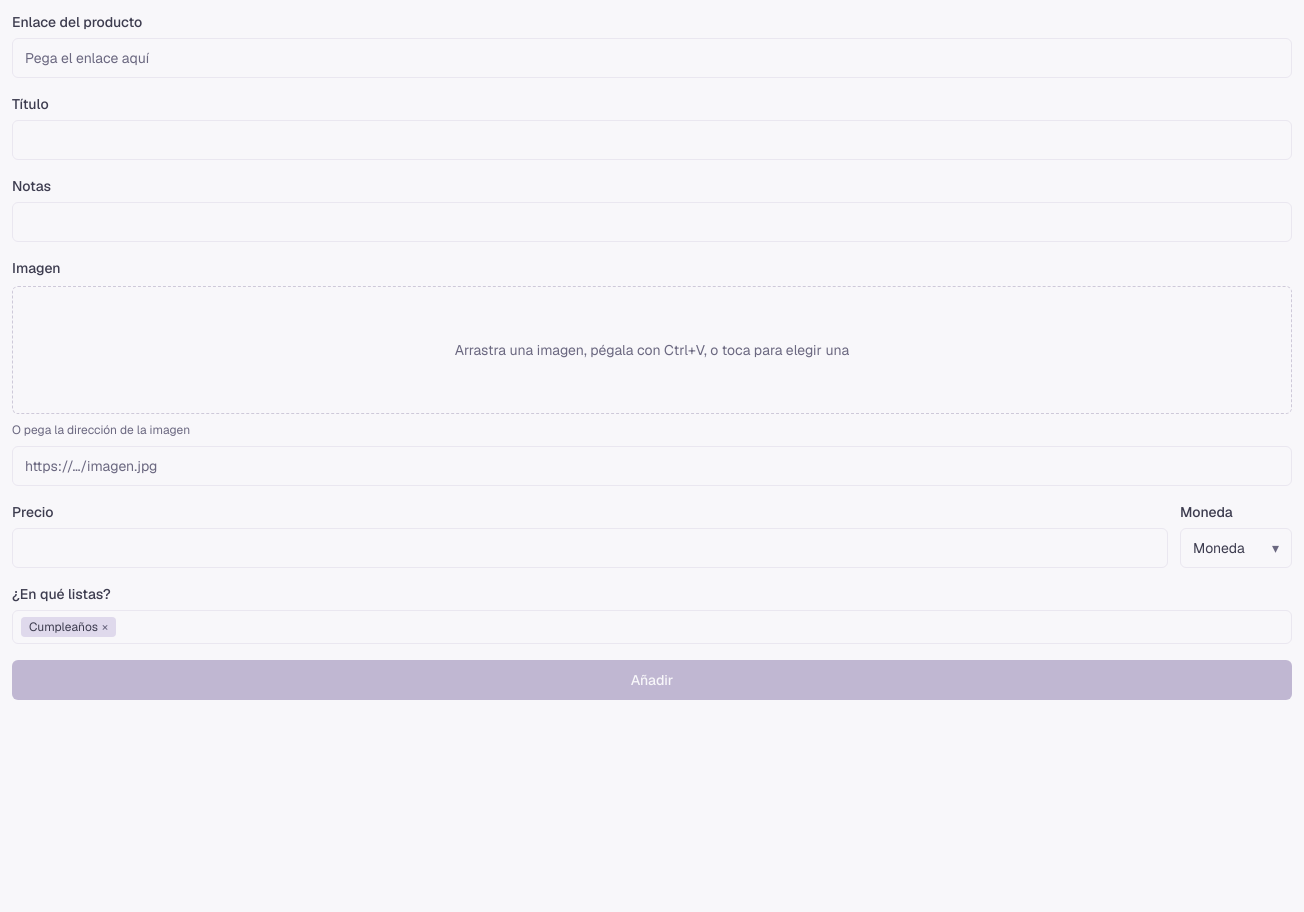
Scenario: AddItemForm › validation messages in Spanish (T092) › shows the URL error in Spanish once the field has been blurred
In the field labelled "Enlace del producto": point(652, 58) [12, 38, 1292, 78], type "not-a-url"
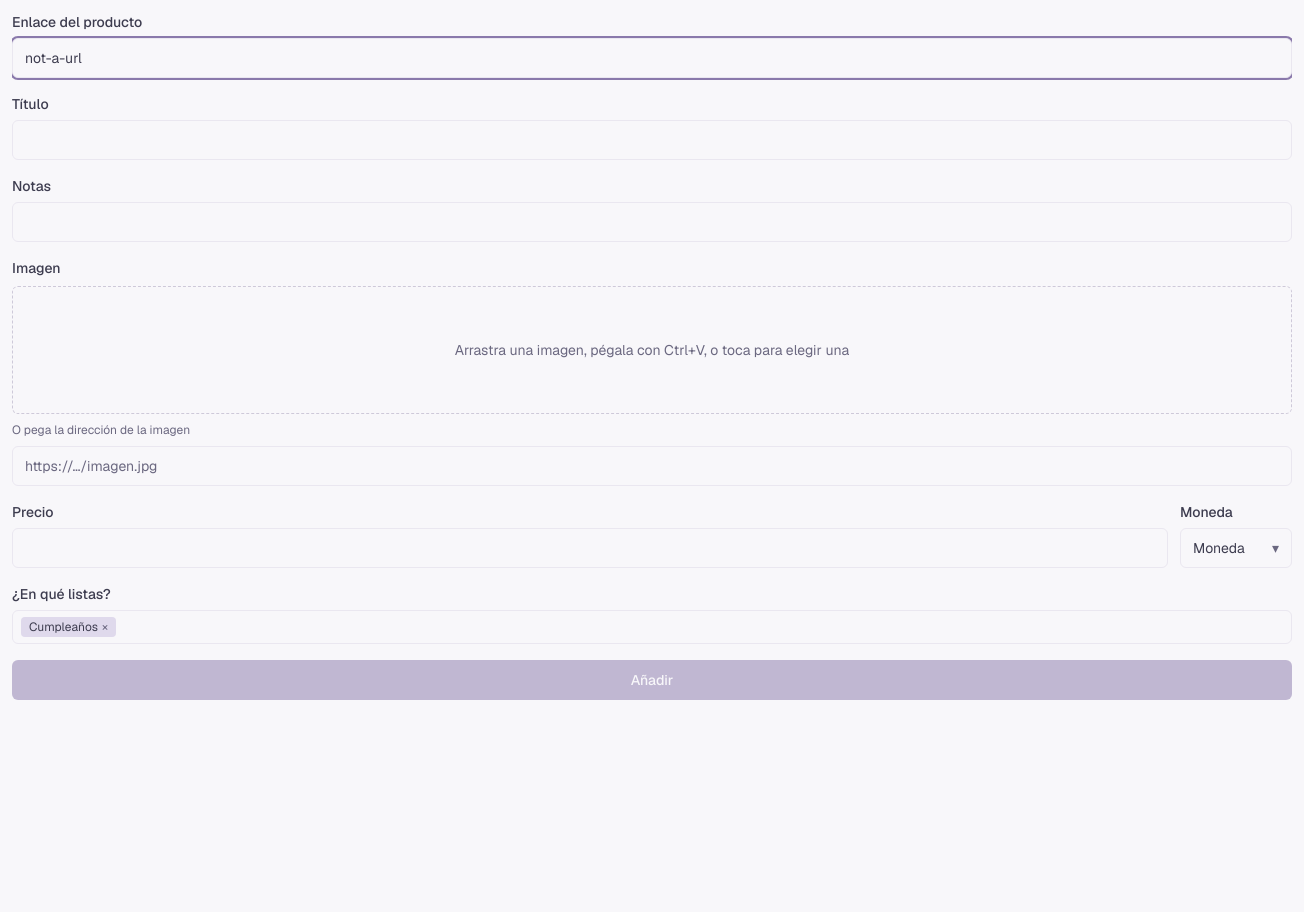
Press Tab
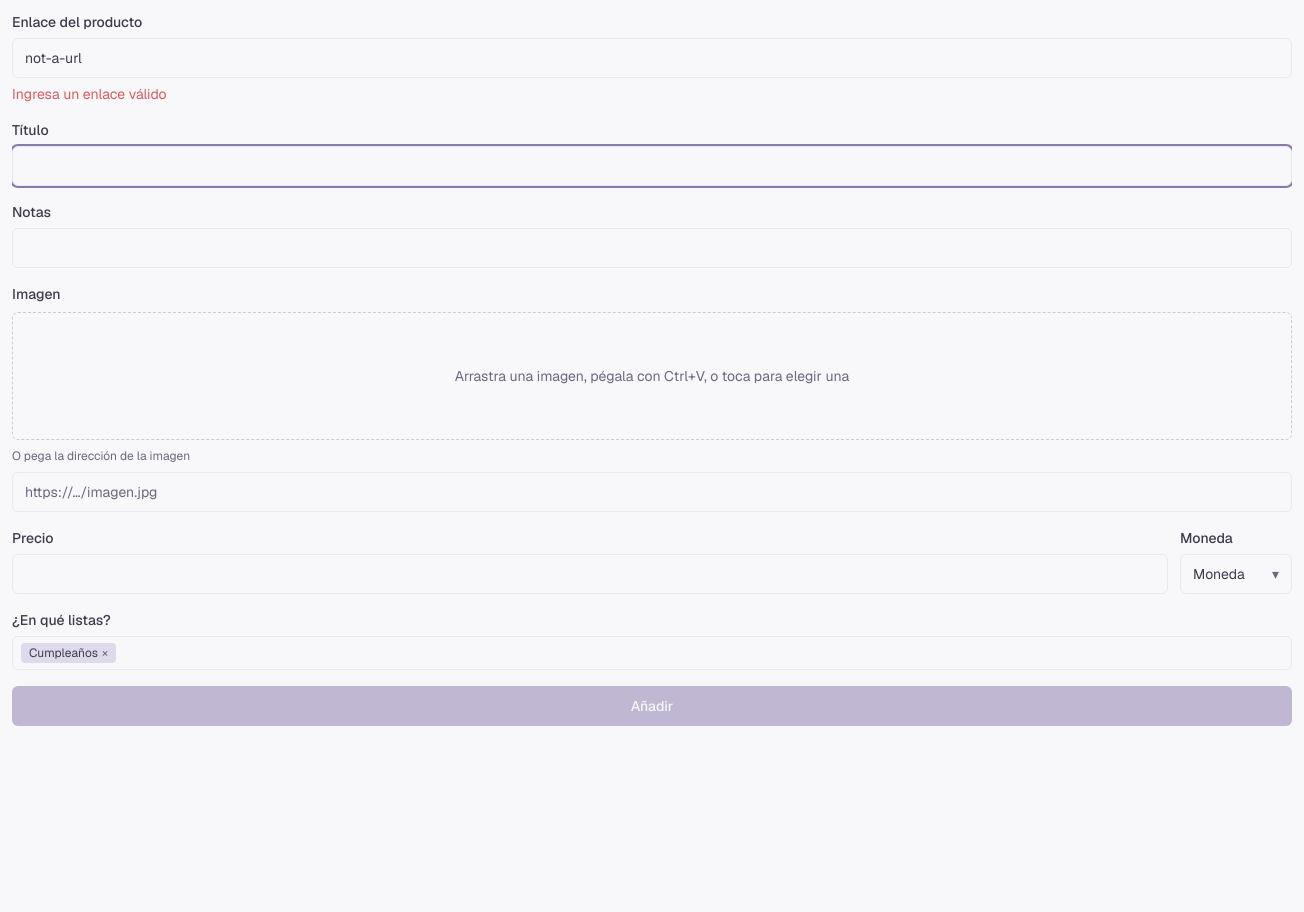
Result: the text "Ingresa un enlace válido" is shown at [12, 85, 167, 103]
